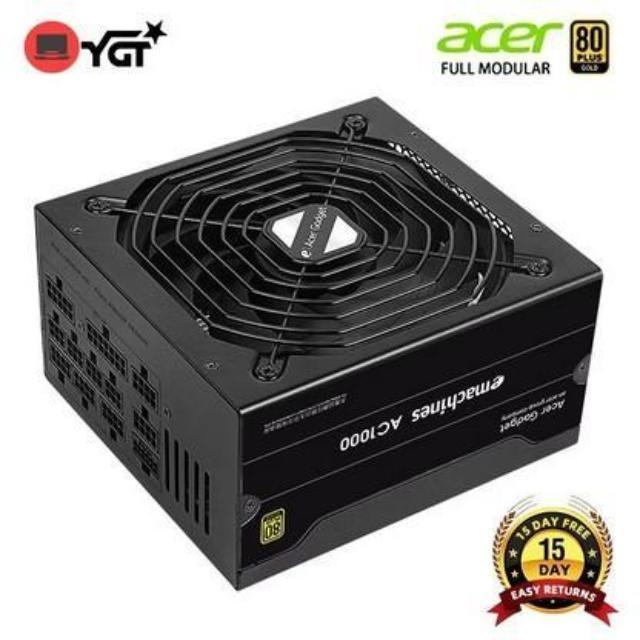PSU: (1, 87, 628, 605)
